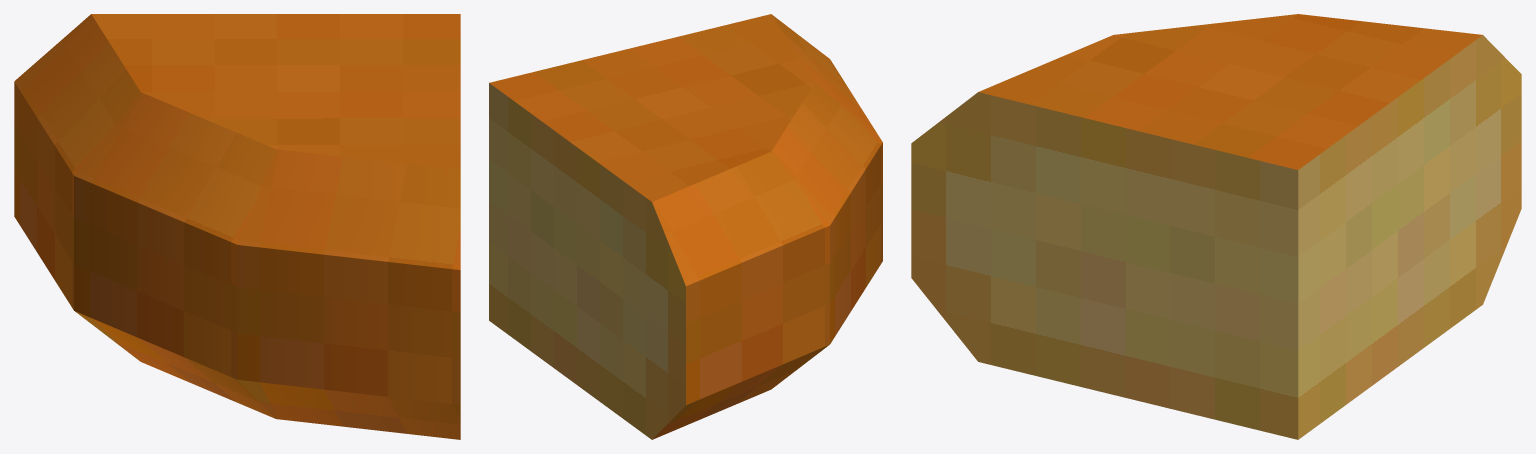
The model's file is Cheese.obj.
3 renders of one model, left to right at view 1: azimuth 30°, elevation 25°; view 2: azimuth 150°, elevation 25°; view 3: azimuth 270°, elevation 25°, orthographic. The views are drawn at different scales.
Parts seen in each view (by area): view 1: pCylinder20; view 2: pCylinder20; view 3: pCylinder20.
Part boxes in pixels (x1,y1,x2,y2): pCylinder20: (14,14,460,439); pCylinder20: (489,14,882,439); pCylinder20: (911,14,1521,439).
Size of the model in its own units: 0.3 by 0.2 by 0.4098.
1 material, 1 textured.
